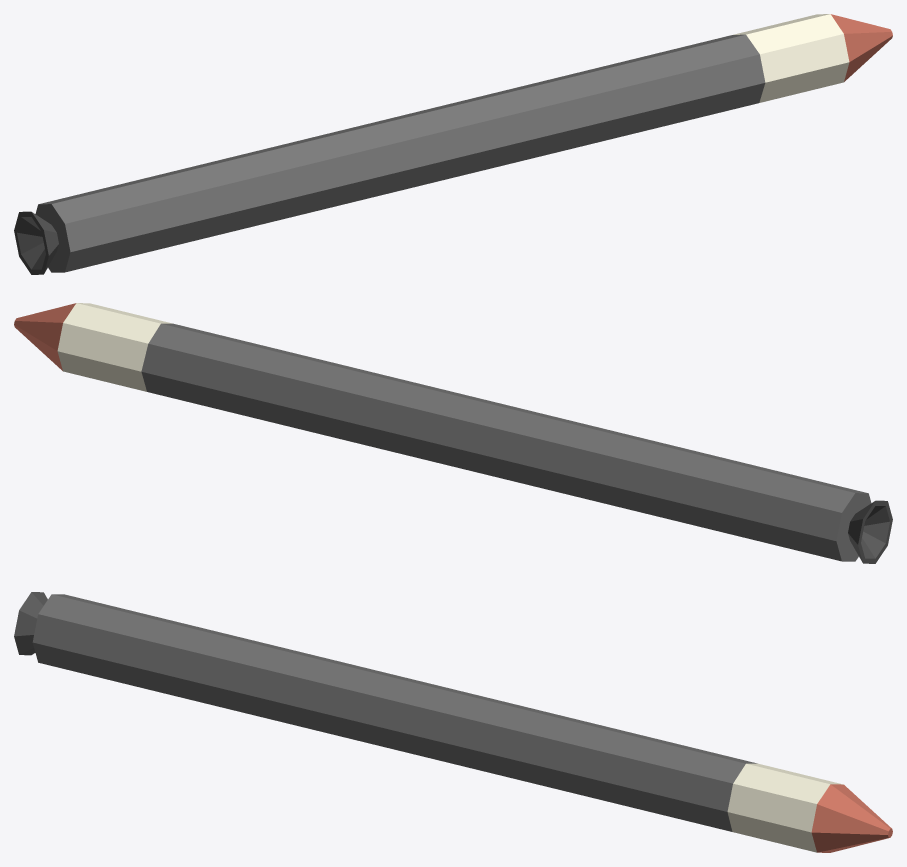
Rendered from cartridges.fbx.
3 views of the same model, one above another, from view 1: azimuth 30°, elevation 25°; view 2: azimuth 150°, elevation 25°; view 3: azimuth 330°, elevation 25° (orthographic).
Visible parts, largest first — view 1: Cylinder_1; view 2: Cylinder_1; view 3: Cylinder_1.
Boxes of the visible parts, bbox=[...] form: Cylinder_1: bbox=[14, 14, 892, 274]; Cylinder_1: bbox=[14, 303, 892, 563]; Cylinder_1: bbox=[14, 592, 892, 852].
Bounding box in the file's own units: 404 × 30.9 × 30.9.
